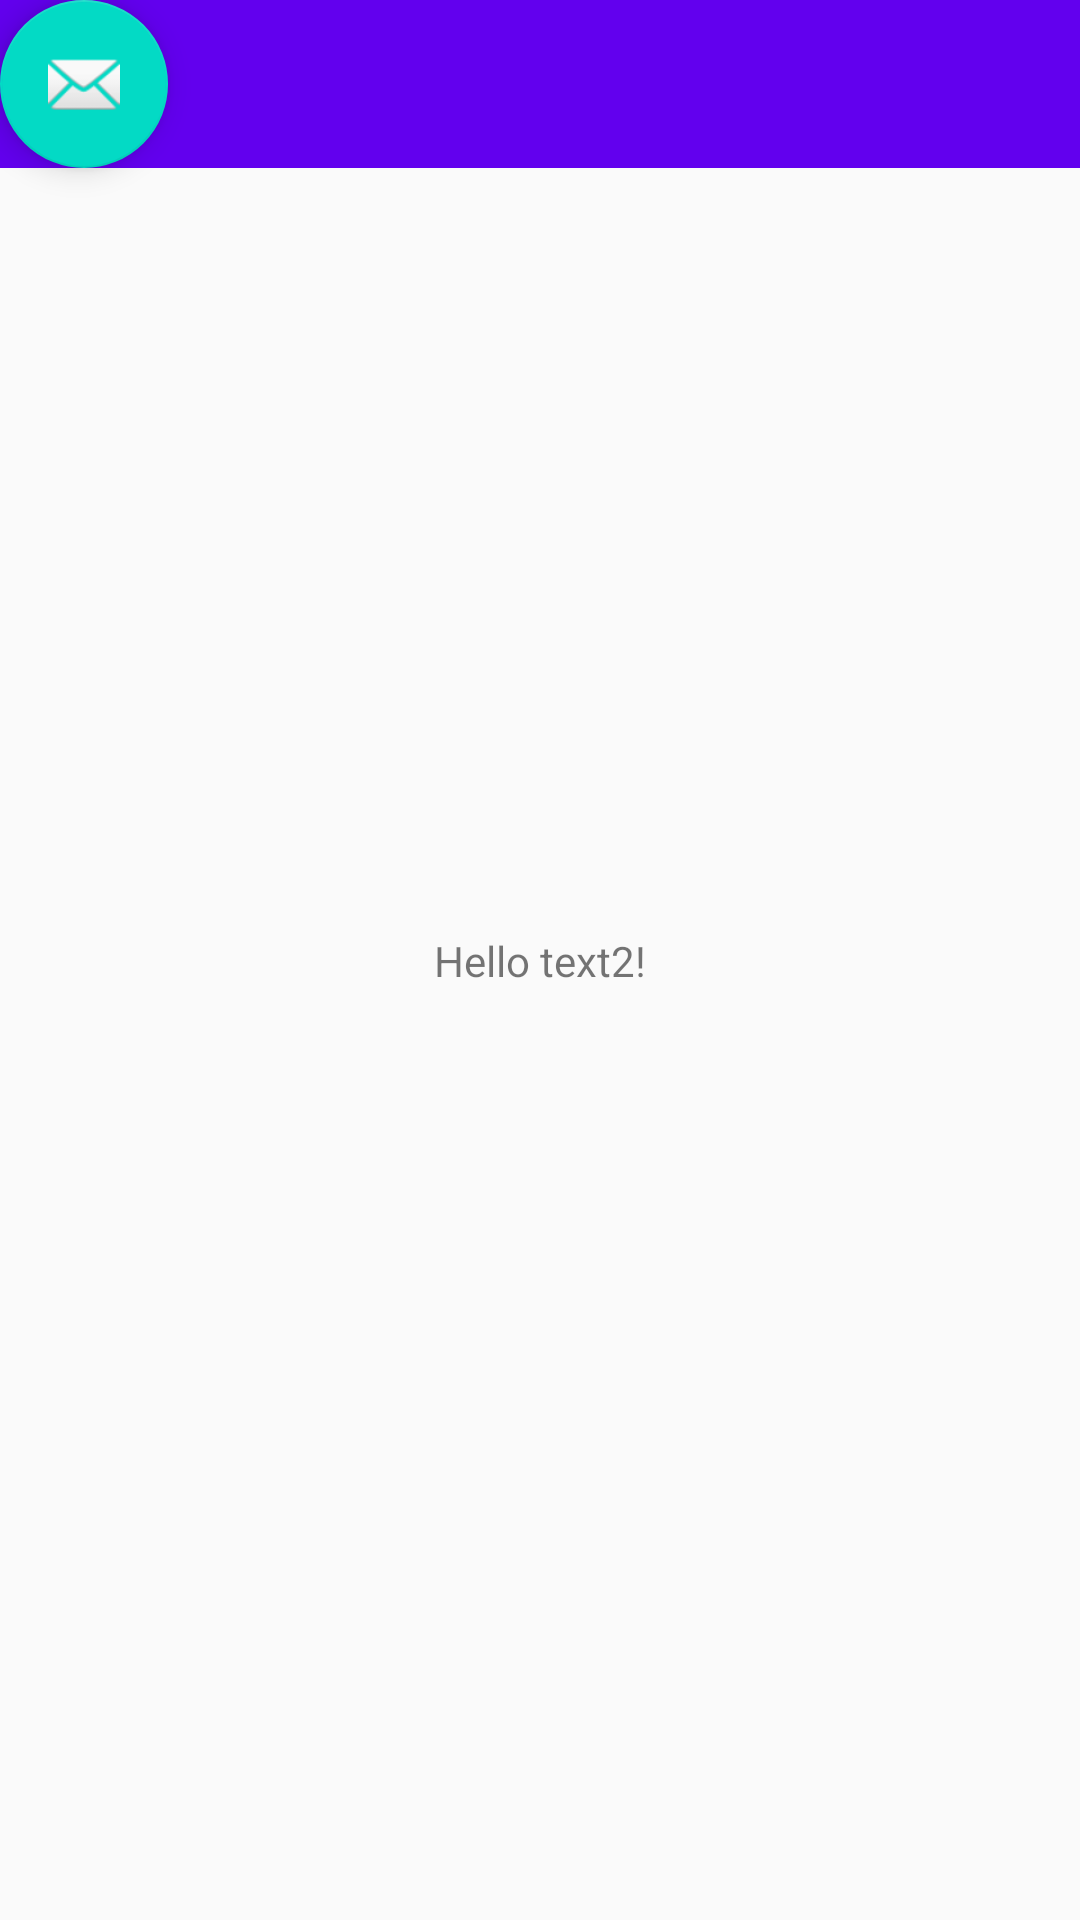

Icons on this 1080x1920 Android screen, each with the point to tap as (x=x, y=y):
email: (x=84, y=84)
